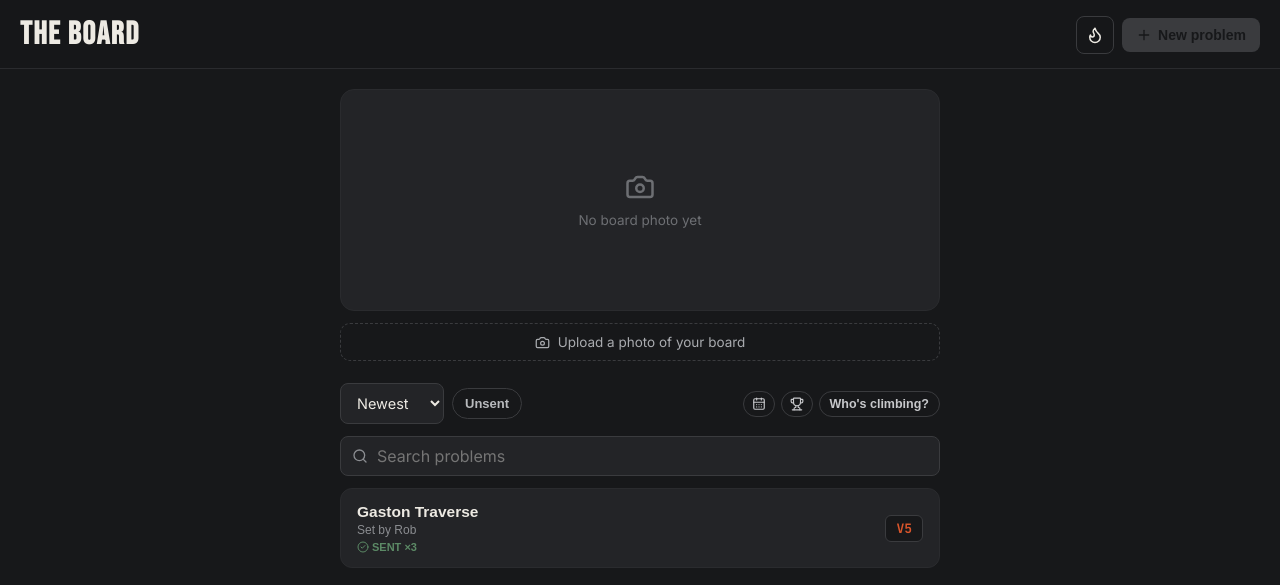
Test: App (list sort and unsent filter) › says so when every problem has been sent
The image size is (1280, 585).
Check: the text "Gaston Traverse" is shown, box [357,503,478,521]
What coordinates should you click on to do the following:
click the button "Unsent"
I would click on:
 (487, 404)
Its box is [452,388,522,419].
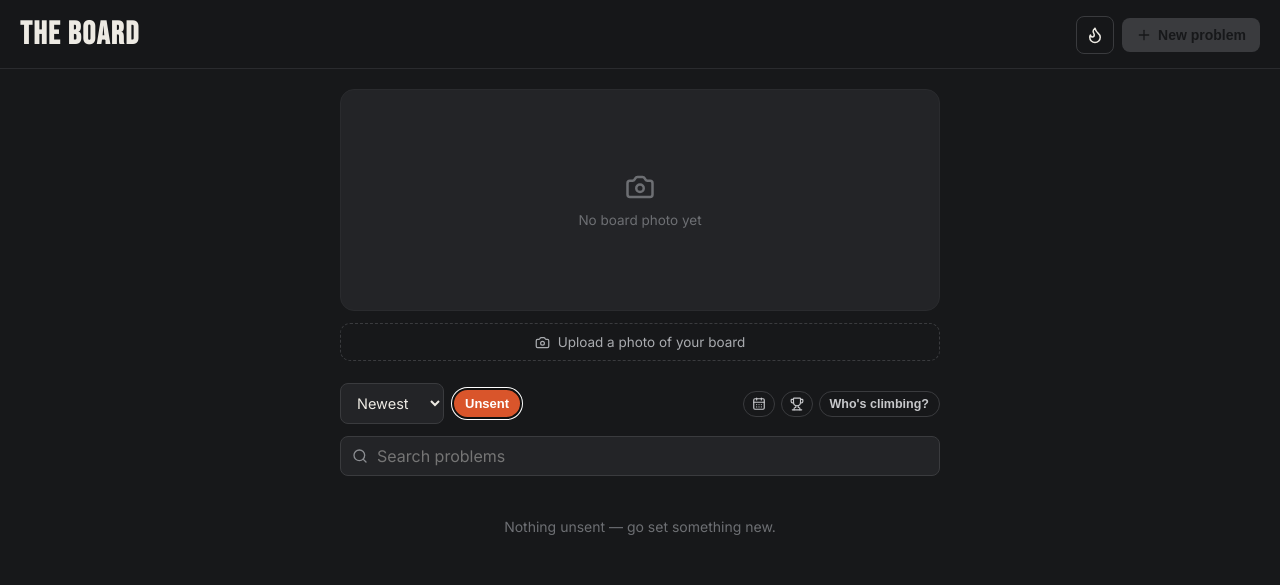
Check: the text "Nothing unsent — go set something new." is shown, box [504,518,776,535]
